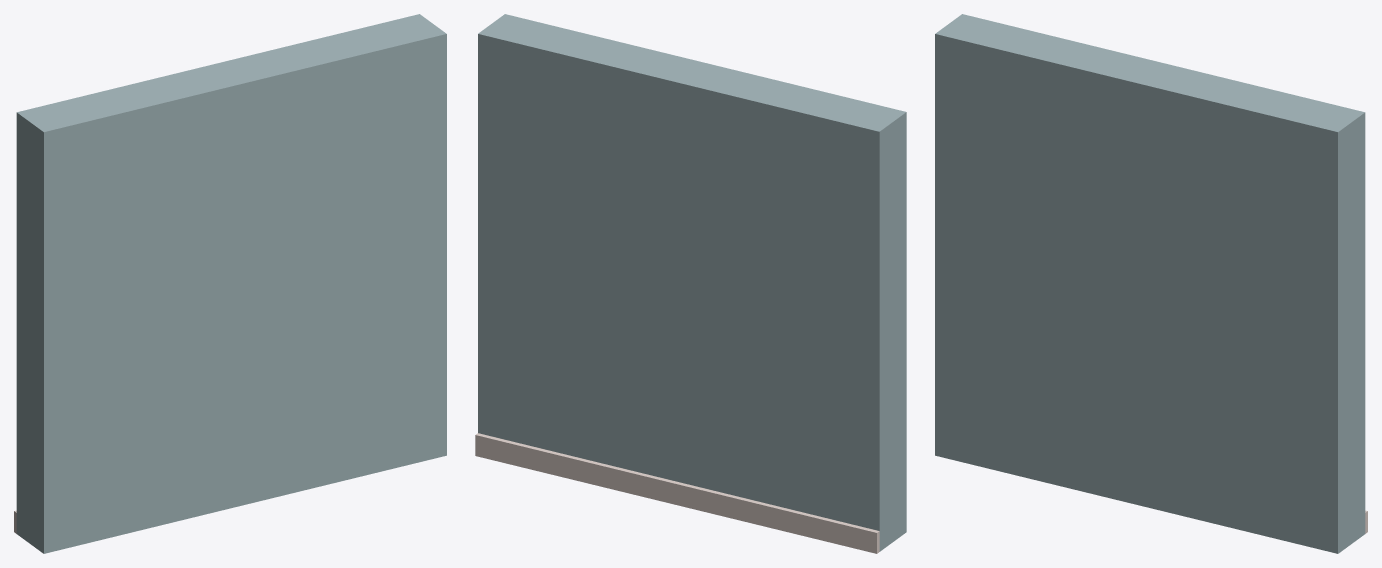
Rendered from Wall.fbx.
3 renders of one model, left to right at view 1: azimuth 30°, elevation 25°; view 2: azimuth 150°, elevation 25°; view 3: azimuth 330°, elevation 25°, orthographic.
Visible parts, largest first — view 1: Wall; view 2: Wall; view 3: Wall.
Part boxes in pixels (bbox=[...]): Wall: bbox=[14, 14, 446, 553]; Wall: bbox=[475, 14, 906, 553]; Wall: bbox=[935, 14, 1367, 553].
Bounding box in the file's own units: 2 × 0.2559 × 2.
